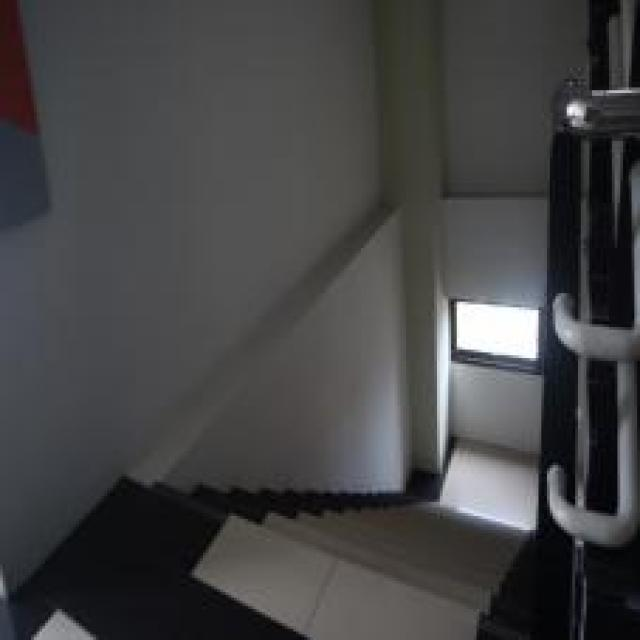downstair: (186, 504, 530, 640)
